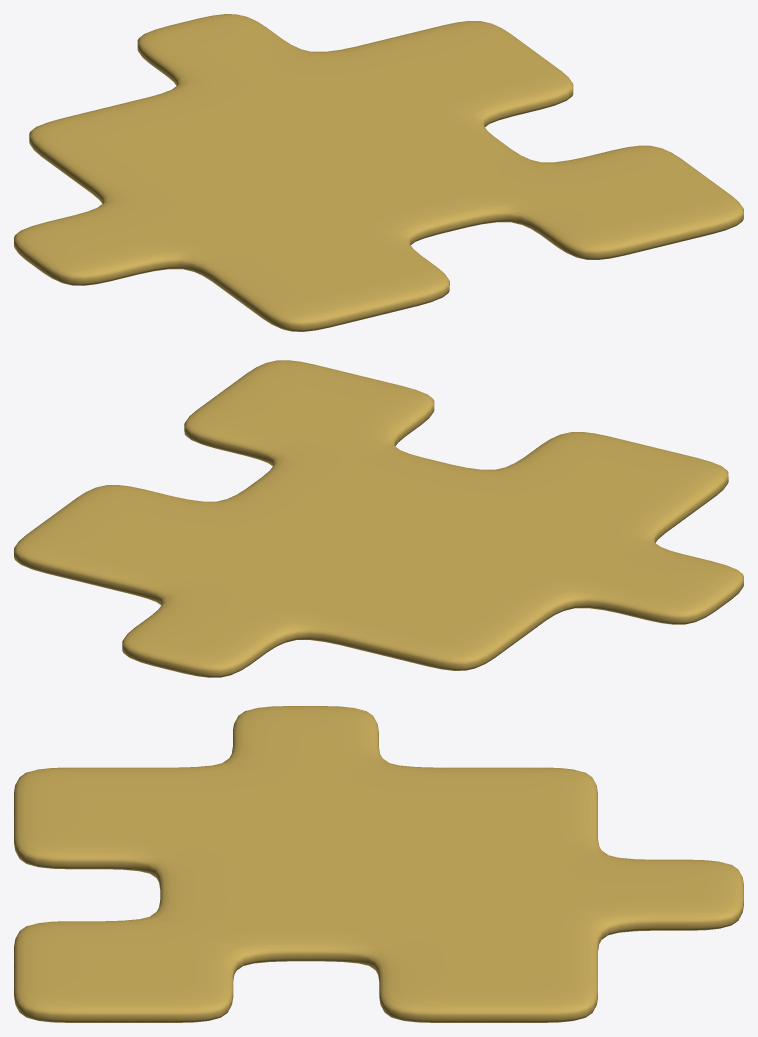
The model's file is GoldenPuzzle-02-MMFF.fbx.
3 views of the same model, one above another, from view 1: azimuth 30°, elevation 25°; view 2: azimuth 150°, elevation 25°; view 3: azimuth 270°, elevation 25° (orthographic). The views are drawn at different scales.
Parts seen in each view (by area): view 1: Puzzle_002; view 2: Puzzle_002; view 3: Puzzle_002.
Part boxes in pixels (<box>): Puzzle_002: <box>14,14,743,331</box>; Puzzle_002: <box>14,360,743,677</box>; Puzzle_002: <box>14,706,743,1022</box>.
Bounding box in the file's own units: 0.3125 × 0.00924 × 0.3137.
